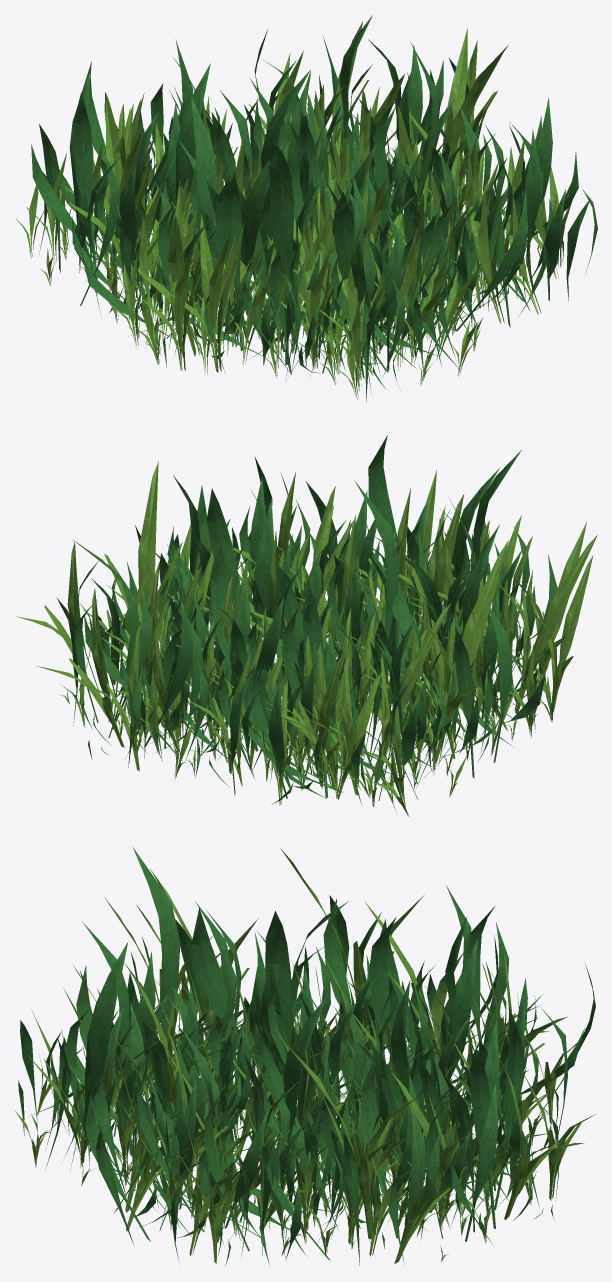
The model's file is grass1.fbx.
The picture shows the model from 3 angles, top to bottom: view 1: azimuth 30°, elevation 25°; view 2: azimuth 150°, elevation 25°; view 3: azimuth 270°, elevation 25°; orthographic projection. The views are drawn at different scales.
Visible parts, largest first — view 1: Grass1; view 2: Grass1; view 3: Grass1.
Part boxes in pixels (bbox=[...]): Grass1: bbox=[15, 15, 597, 402]; Grass1: bbox=[16, 435, 597, 816]; Grass1: bbox=[15, 847, 595, 1265].
Size of the model in its own units: 27.69 by 13.5 by 28.39.
